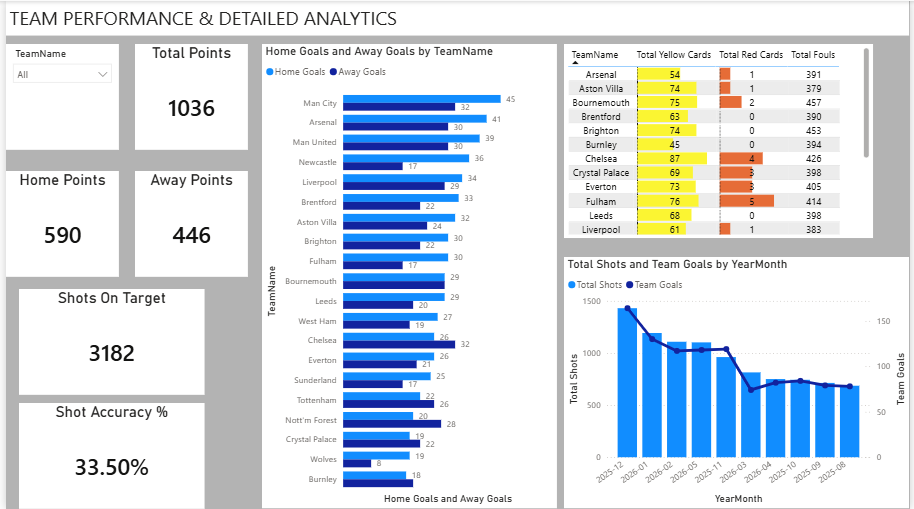

The dashboard page shown, as its layout file describes it:
{"tool":"powerbi","page":{"name":"Team Performance Analysis","canvas":[1280,720],"ordinal":1},"visuals":[{"type":"textbox","box":[0,0,1280,48.6],"z":0},{"type":"slicer","fields":{"Values":["DimTeams.TeamName"]},"box":[0,61.5,160.2,150.2],"z":1000},{"type":"cardVisual","title":"Total Points","fields":{"Data":["_AllMeasure.Total Points"]},"box":[183.1,61.5,160.2,150.2],"z":2000},{"type":"cardVisual","title":"Away Points","fields":{"Data":["_AllMeasure.Away Points"]},"box":[183.1,240.3,160.2,150.2],"z":3000},{"type":"cardVisual","title":"Home Points","fields":{"Data":["_AllMeasure.Home Points","_AllMeasure.Home Points"]},"box":[0,240.3,160.2,150.2],"z":4000},{"type":"cardVisual","title":"Shots On Target","fields":{"Data":["_AllMeasure.Shots On Target"]},"box":[18.6,407.6,263.2,150.2],"z":5000},{"type":"cardVisual","title":"Shot Accuracy %","fields":{"Data":["_AllMeasure.Shot Accuracy %"]},"box":[18.6,569.2,263.2,150.2],"z":6000},{"type":"clusteredBarChart","fields":{"Category":["DimTeams.TeamName"],"Y":["_AllMeasure.Home Goals","_AllMeasure.Away Goals"]},"box":[363.3,61.5,417.6,657.9],"z":7000},{"type":"lineStackedColumnComboChart","fields":{"Category":["DimCalendar.YearMonth"],"Y":["_AllMeasure.Total Shots"],"Y2":["_AllMeasure.Team Goals"]},"box":[790.9,363.3,489.1,356.1],"z":8000},{"type":"tableEx","fields":{"Values":["DimTeams.TeamName","_AllMeasure.Total Yellow Cards","_AllMeasure.Total Red Cards","_AllMeasure.Total Fouls"]},"box":[790.9,61.5,437.6,274.6],"z":9000}]}

Visuals, with their boxes in screenshot pixels (x1, y1, x2, y2), scaled from the page's 1280x720 canvas onto the 914x509 screenshot:
textbox: box(0, 0, 913, 34)
slicer - DimTeams.TeamName: box(0, 43, 114, 150)
"Total Points" cardVisual: box(131, 43, 245, 150)
"Away Points" cardVisual: box(131, 170, 245, 276)
"Home Points" cardVisual: box(0, 170, 114, 276)
"Shots On Target" cardVisual: box(13, 288, 201, 394)
"Shot Accuracy %" cardVisual: box(13, 402, 201, 508)
clusteredBarChart - DimTeams.TeamName x _AllMeasure.Home Goals: box(259, 43, 558, 508)
lineStackedColumnComboChart - DimCalendar.YearMonth x _AllMeasure.Total Shots: box(565, 257, 913, 508)
tableEx - DimTeams.TeamName x _AllMeasure.Total Yellow Cards: box(565, 43, 877, 238)
